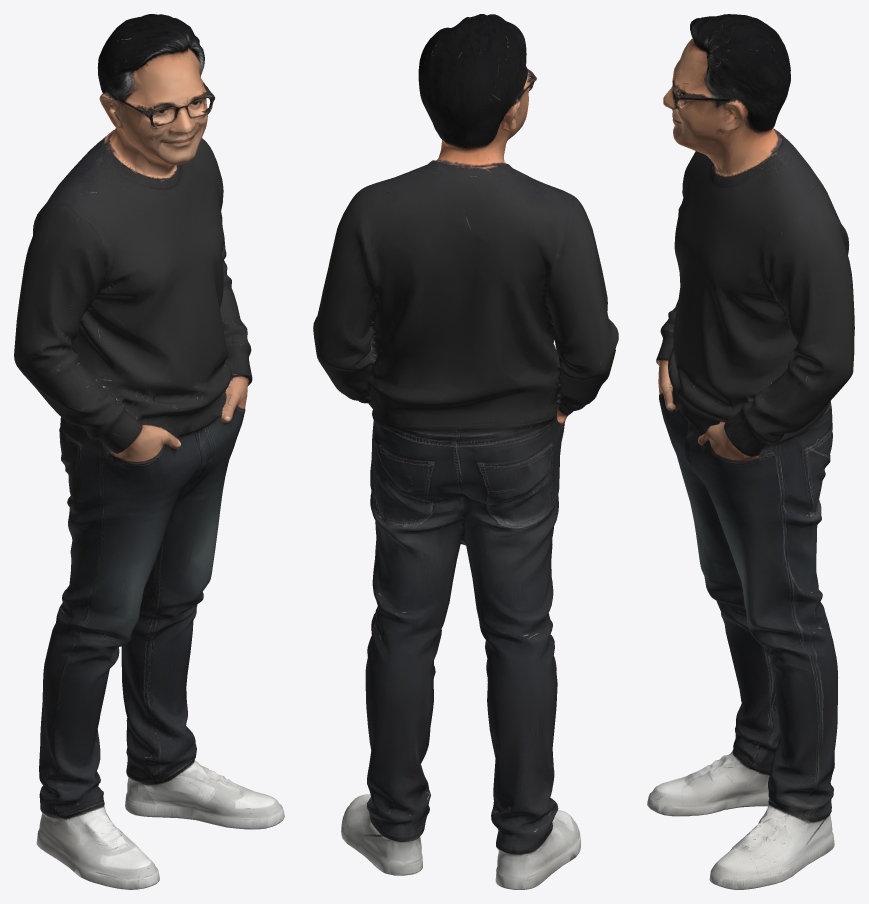
Rendered from nadella.glb.
3 renders of one model, left to right at view 1: azimuth 30°, elevation 25°; view 2: azimuth 150°, elevation 25°; view 3: azimuth 270°, elevation 25°, orthographic.
Visible parts, largest first — view 1: Mesh_0; view 2: Mesh_0; view 3: Mesh_0.
Part boxes in pixels (bbox=[...]): Mesh_0: bbox=[14, 14, 284, 889]; Mesh_0: bbox=[313, 14, 618, 889]; Mesh_0: bbox=[647, 14, 854, 889].
Size of the model in its own units: 0.635 by 1.91 by 0.4432.
1 material, 1 textured.
